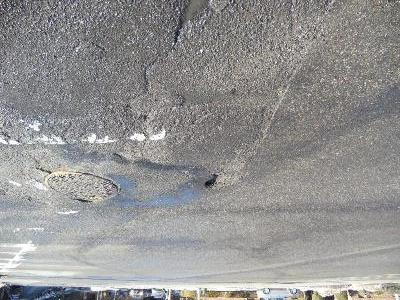pothole: (172, 0, 216, 42), (203, 171, 237, 190)
